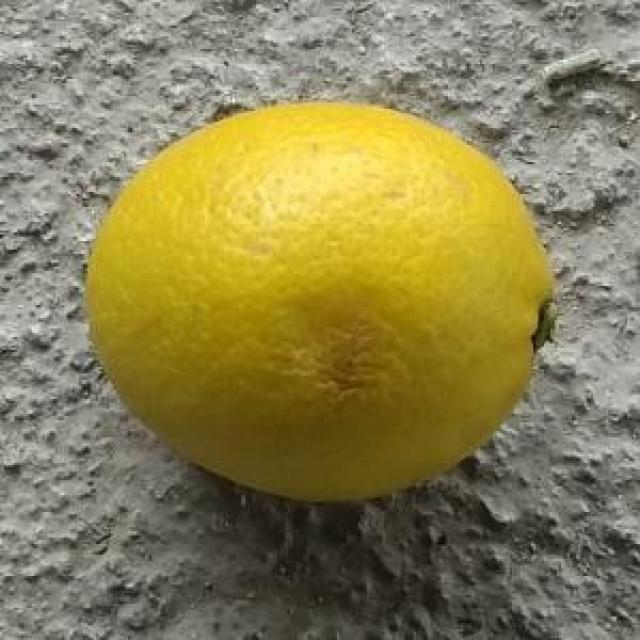lemon: (83, 94, 556, 500)
